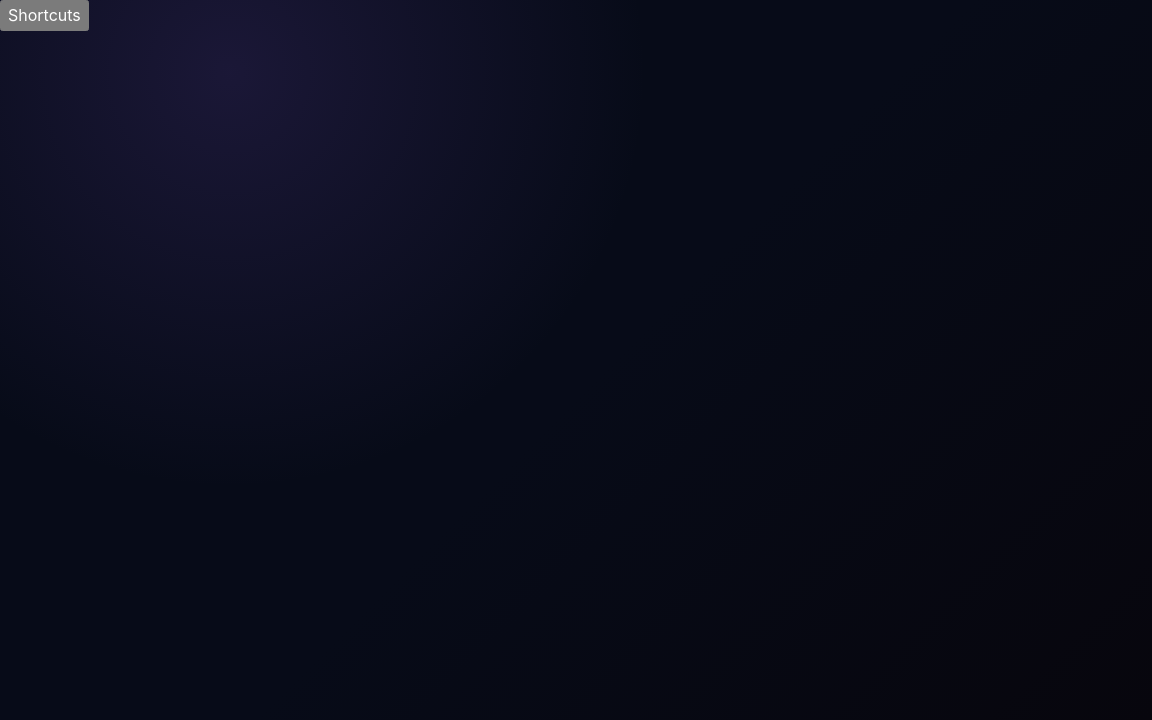
Scenario: command palette and layouts (TVP-2.1) › lists catalogued commands with their keys and runs quick actions
This screenshot has width=1152, height=720.
Press k
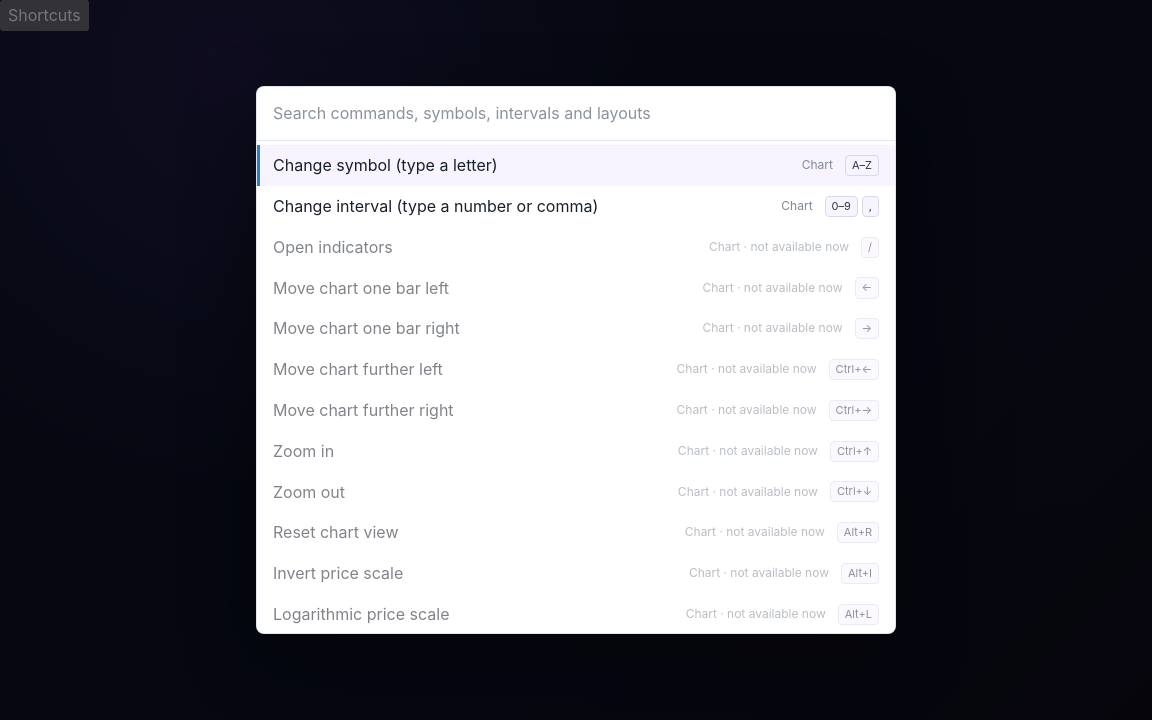
expect the option "Reset chart view Chart · not available now Alt+R" is shown: met, box left=273, top=522, right=879, bottom=543
Type "interval 4 hours" into the dropdown named "Command palette" at [576, 114], box left=257, top=87, right=895, bottom=141
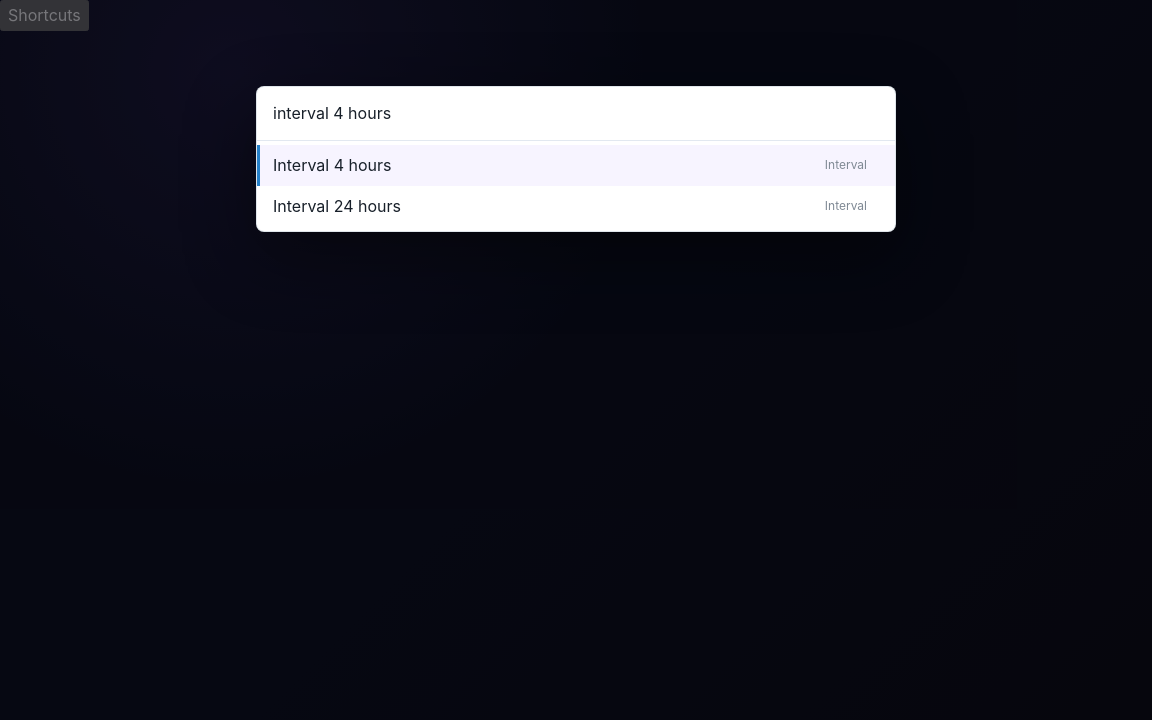
Press Enter in the dropdown named "Command palette", box left=257, top=87, right=895, bottom=141
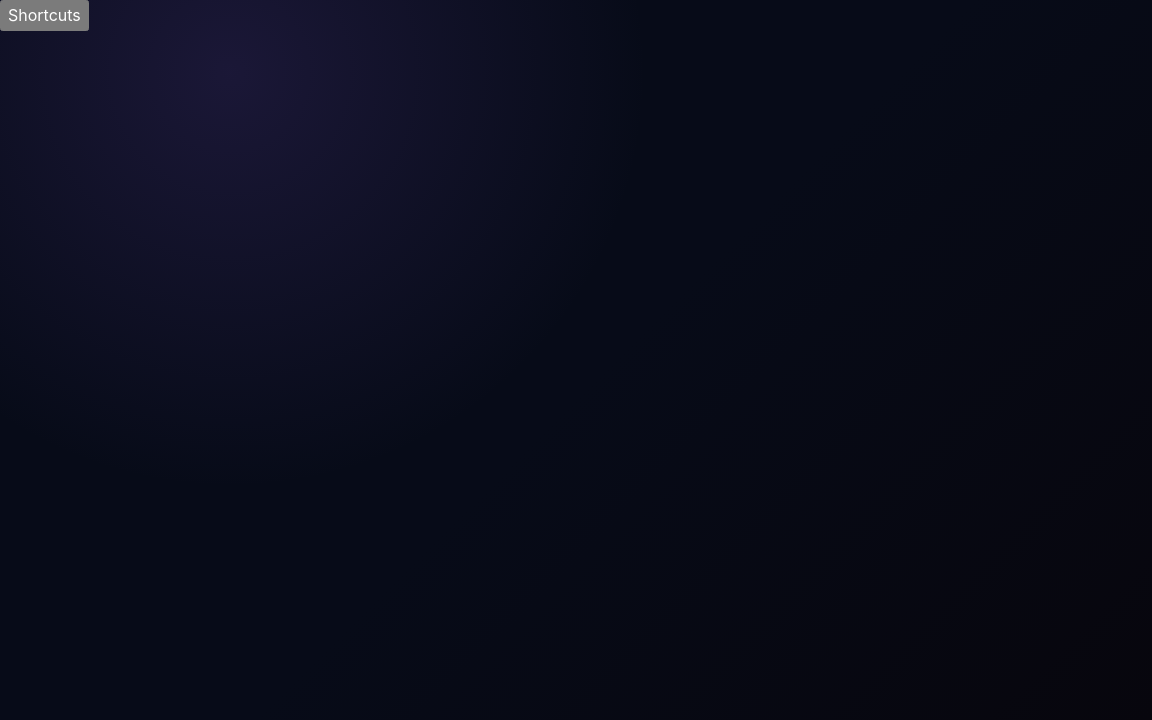
Press k
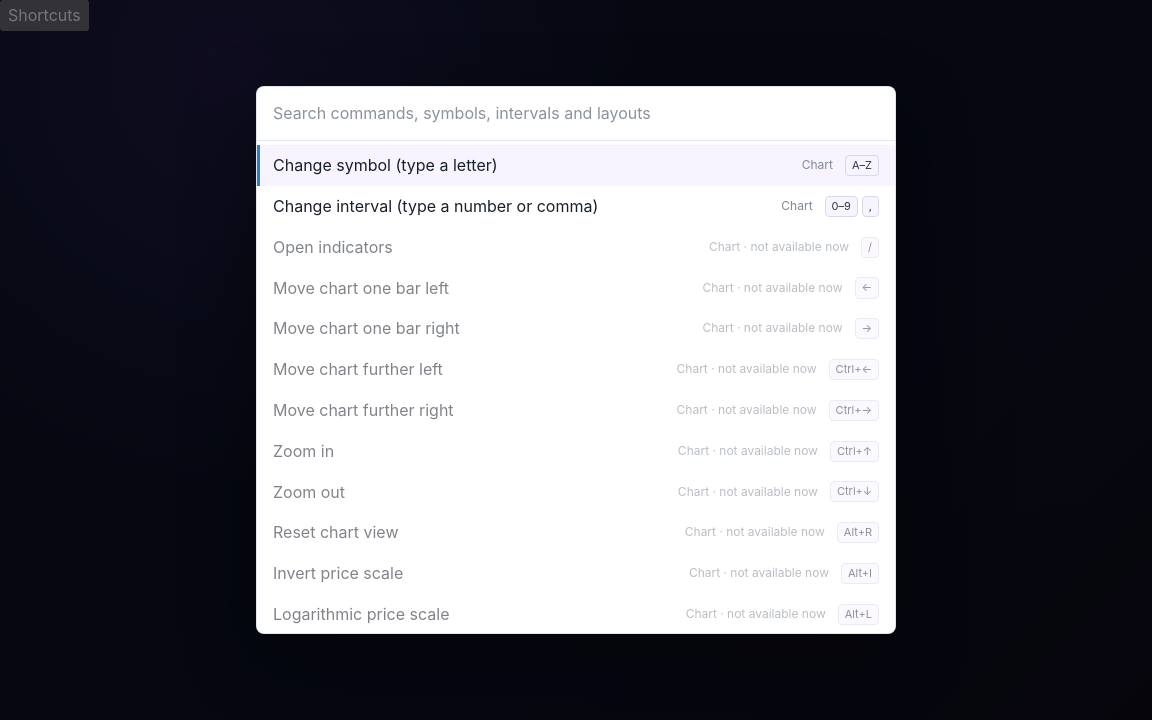
Type "btc" into the dropdown named "Command palette" at [576, 114], box left=257, top=87, right=895, bottom=141
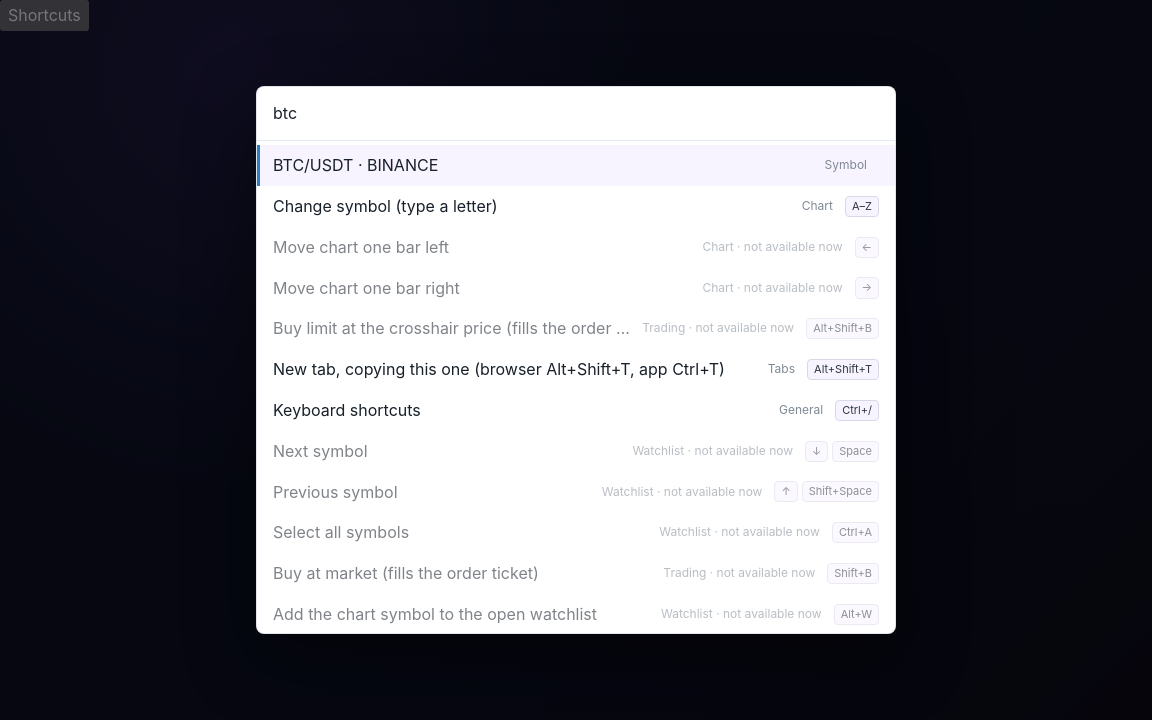
expect the option "BTC/USDT · BINANCE Symbol" is shown: met, box left=257, top=145, right=895, bottom=186
